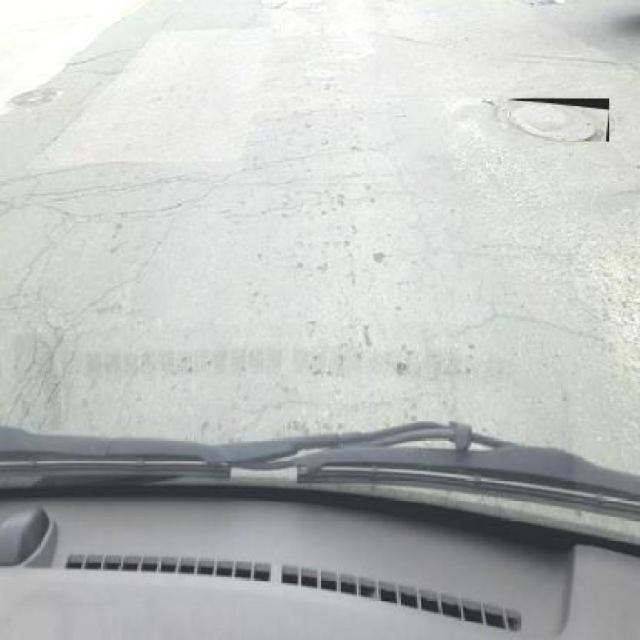Manhole: (506, 98, 609, 142)
Pothole: (8, 84, 66, 110)
